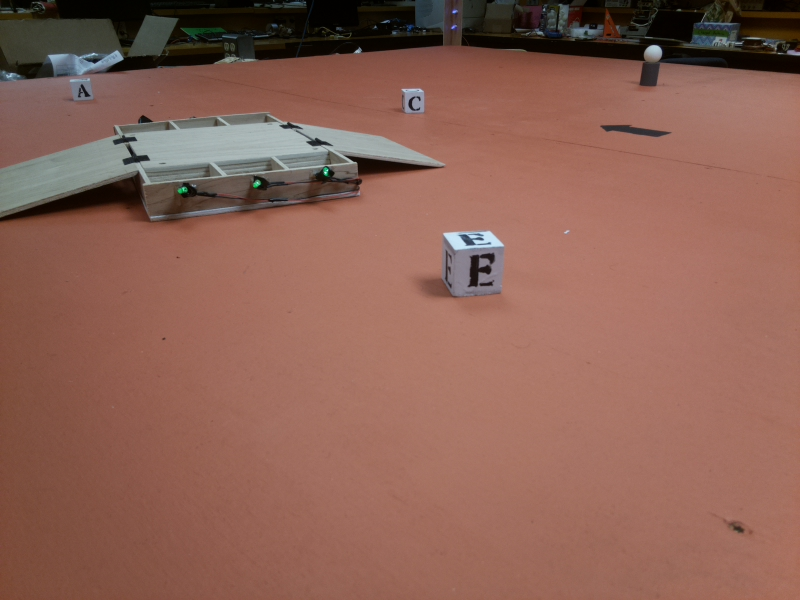blockA: (68, 79, 97, 105)
blockC: (402, 86, 428, 116)
blockE: (437, 231, 508, 294)
corner: (442, 1, 470, 49)
obstacle: (637, 45, 663, 90)
side: (140, 145, 362, 227)
slope: (1, 129, 140, 221), (293, 120, 452, 172)
start: (600, 121, 672, 140)
